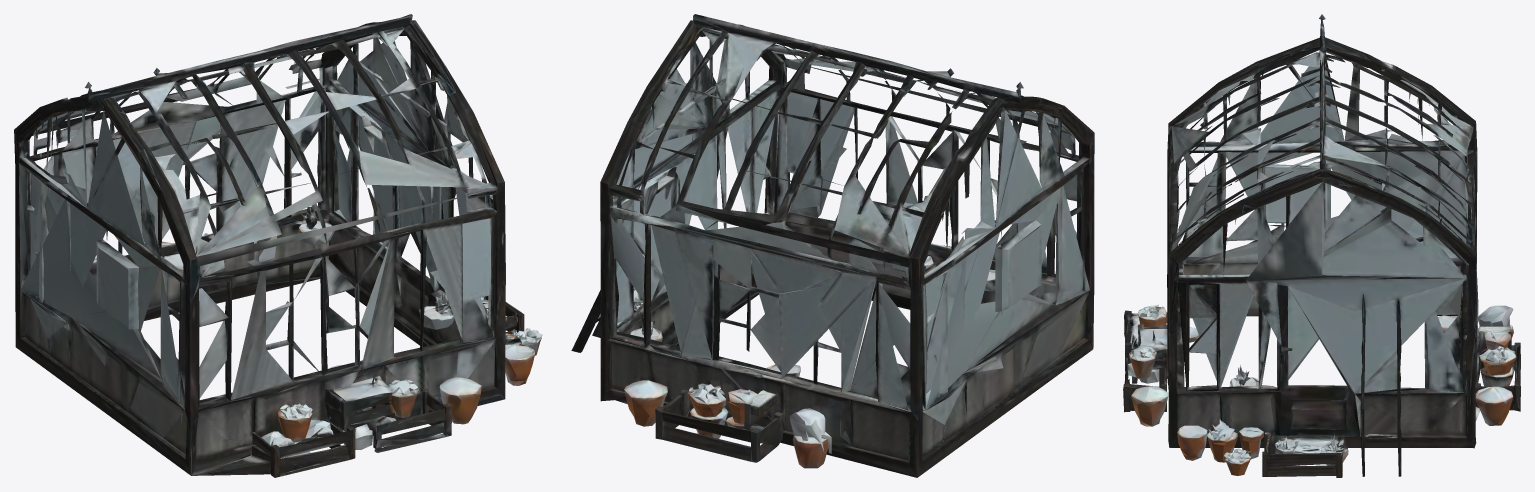
File: glass.glb
3 renders of one model, left to right at view 1: azimuth 30°, elevation 25°; view 2: azimuth 150°, elevation 25°; view 3: azimuth 270°, elevation 25°, orthographic. The views are drawn at different scales.
Size of the model in its own units: 1.9 by 1.48 by 1.82.
Materials: 1 (1 with a texture image).
